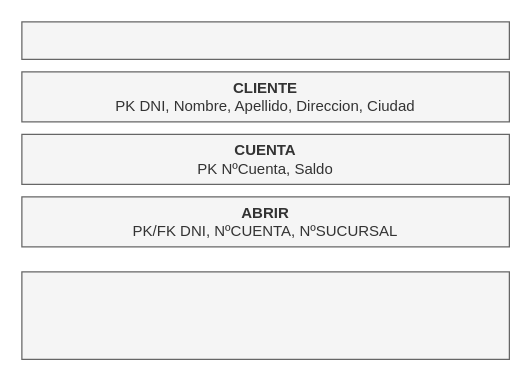
Some shapes in this 531 by 381 pixel diagram are drawn without their labels. Here are the shapes that lost their labels. From the top down, the centre of each, then its label:
At pixel 265 40: "SUCURSAL PK Nº Sucursal, Ciudad, Activio".
At pixel 265 315: "TRANSACCION PK NºTransaccion Fecha, TipoOperacion, Cantidad, FK NºCuenta".
